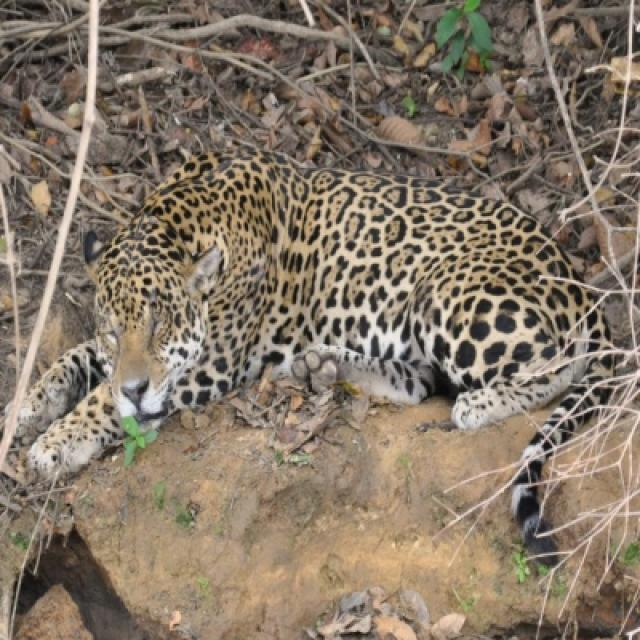Jaguar: (0, 150, 610, 575)
